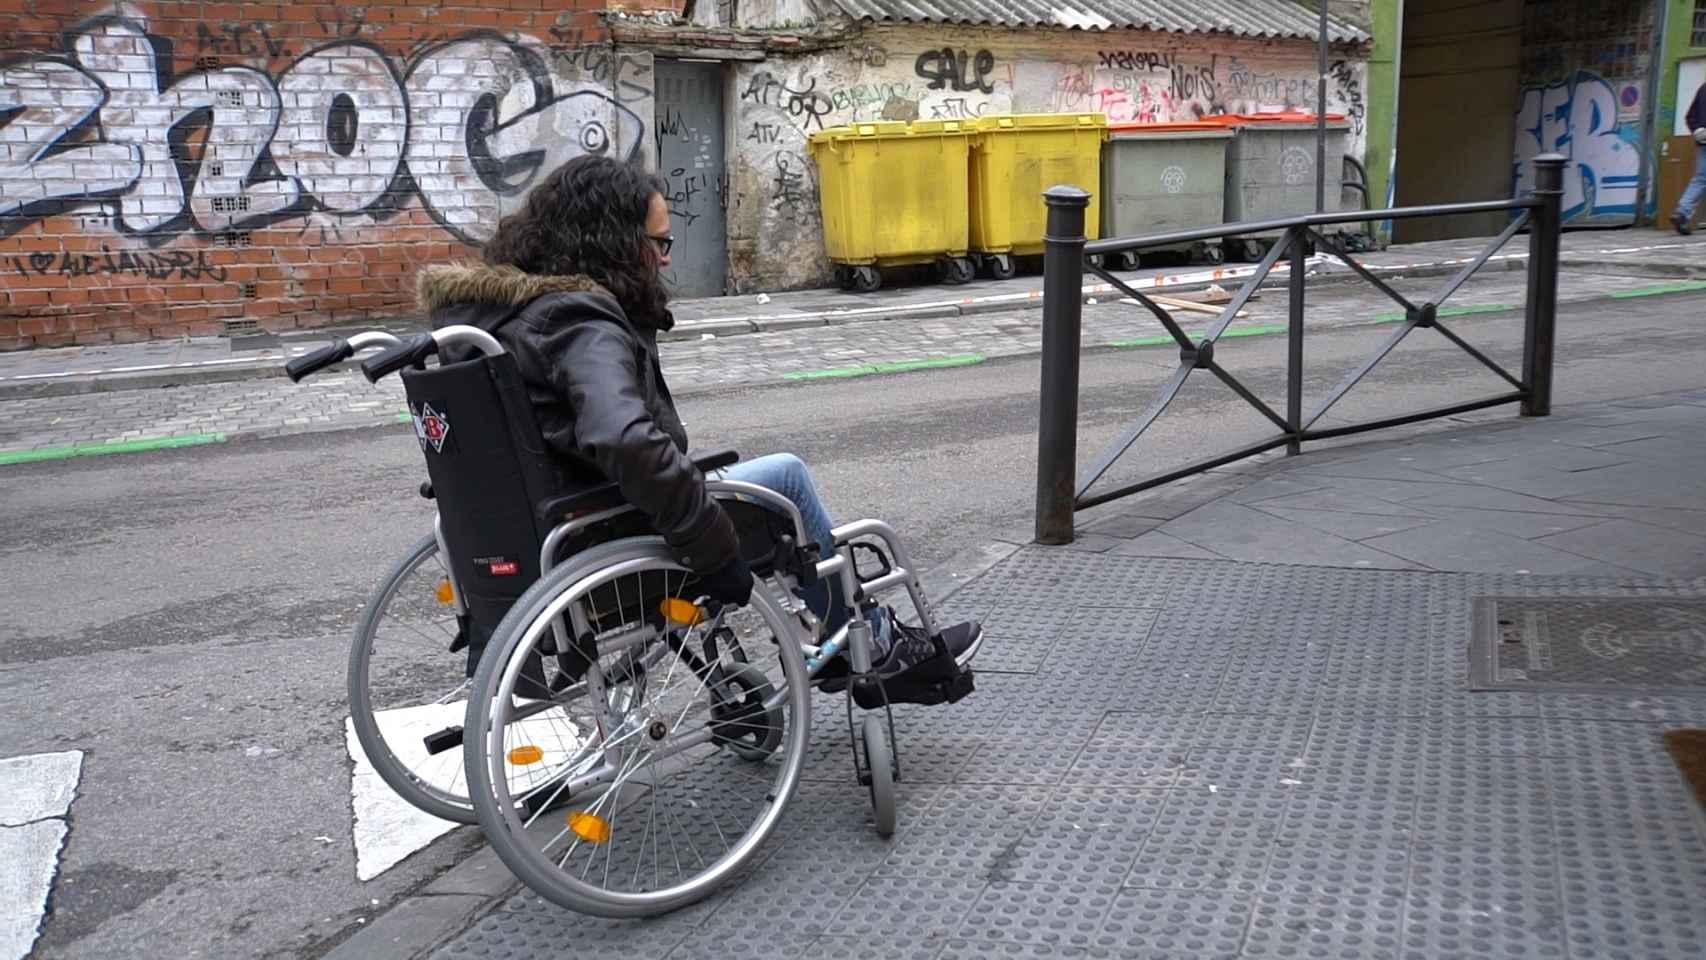wheelchair: (285, 154, 988, 920)
